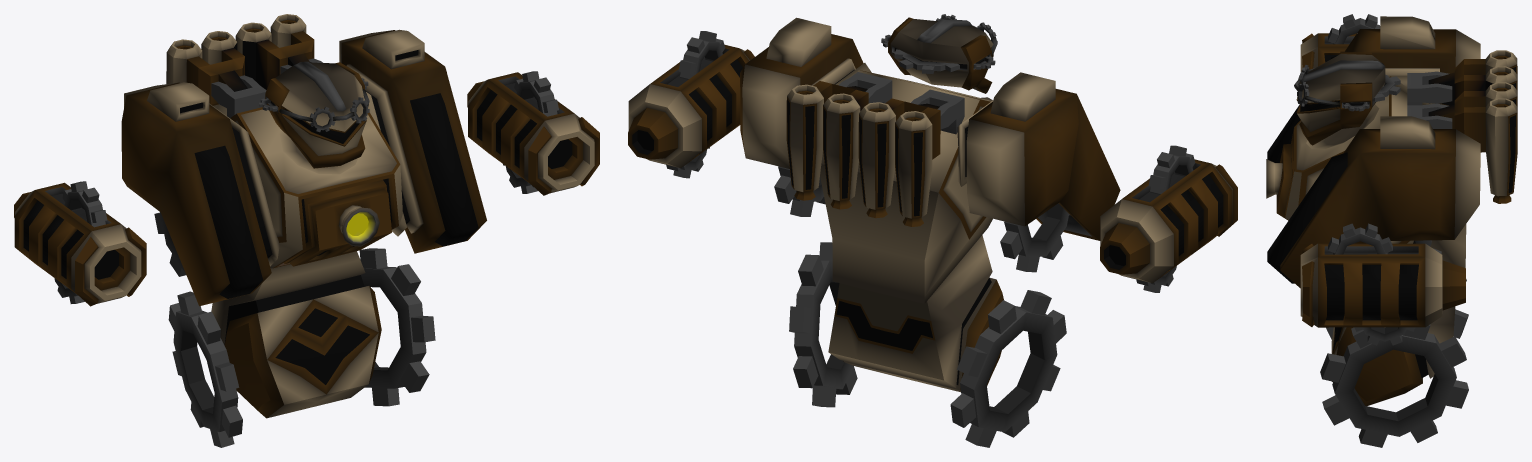
Rendered from REAPER.fbx.
3 views of the same model, side by side, from view 1: azimuth 30°, elevation 25°; view 2: azimuth 150°, elevation 25°; view 3: azimuth 270°, elevation 25° (orthographic). The views are drawn at different scales.
Parts seen in each view (by area): view 1: Right Shoulder, BodyLower, Left Shoulder, Body, Right Arm, Left Arm, Head, Right Hip Gear, Left Hip Gear, Right Missiles, Left Missiles, Right Slider (+4 smaller); view 2: Right Shoulder, Body, BodyLower, Right Arm, Right Hip Gear, Left Arm, Left Shoulder, Right Missiles, Left Missiles, Left Hip Gear, Head, Right Shoulder Gear (+6 smaller); view 3: Left Shoulder, Left Arm, Left Hip Gear, Right Shoulder, Body, Head, Left Missiles, BodyLower, Right Missiles, Right Slider, Right Arm, Left Arm Gear 1 (+6 smaller).
Boxes of the visible parts, left/top/right/bottom form: Right Shoulder: left=121, top=82, right=279, bottom=306; BodyLower: left=211, top=251, right=381, bottom=418; Left Shoulder: left=339, top=29, right=486, bottom=253; Body: left=230, top=107, right=402, bottom=268; Right Arm: left=14, top=182, right=146, bottom=306; Left Arm: left=467, top=72, right=599, bottom=195; Head: left=265, top=61, right=366, bottom=168; Right Hip Gear: left=168, top=291, right=242, bottom=447; Left Hip Gear: left=359, top=248, right=435, bottom=406; Right Missiles: left=166, top=31, right=247, bottom=115; Left Missiles: left=235, top=14, right=314, bottom=89; Right Slider: left=211, top=75, right=266, bottom=117; Right Shoulder: left=957, top=72, right=1120, bottom=240; Body: left=820, top=70, right=992, bottom=303; BodyLower: left=828, top=235, right=1003, bottom=392; Right Arm: left=1100, top=159, right=1237, bottom=283; Right Hip Gear: left=950, top=290, right=1066, bottom=447; Left Arm: left=628, top=44, right=754, bottom=168; Left Shoulder: left=740, top=17, right=871, bottom=168; Right Missiles: left=858, top=98, right=940, bottom=226; Left Missiles: left=786, top=81, right=868, bottom=209; Left Hip Gear: left=789, top=242, right=857, bottom=407; Head: left=888, top=17, right=993, bottom=93; Right Shoulder Gear: left=1000, top=203, right=1070, bottom=272; Left Shoulder: left=1267, top=116, right=1480, bottom=288; Left Arm: left=1300, top=243, right=1465, bottom=327; Left Hip Gear: left=1320, top=324, right=1468, bottom=447; Right Shoulder: left=1267, top=16, right=1480, bottom=162; Body: left=1266, top=76, right=1466, bottom=267; Head: left=1296, top=51, right=1385, bottom=145; Left Missiles: left=1428, top=82, right=1517, bottom=203; BodyLower: left=1331, top=306, right=1455, bottom=405; Right Missiles: left=1428, top=50, right=1517, bottom=105; Right Slider: left=1407, top=71, right=1452, bottom=105; Right Arm: left=1300, top=33, right=1356, bottom=72; Left Arm Gear 1: left=1328, top=223, right=1392, bottom=254.
Bounding box in the file's own units: 174 × 116 × 76.16.
